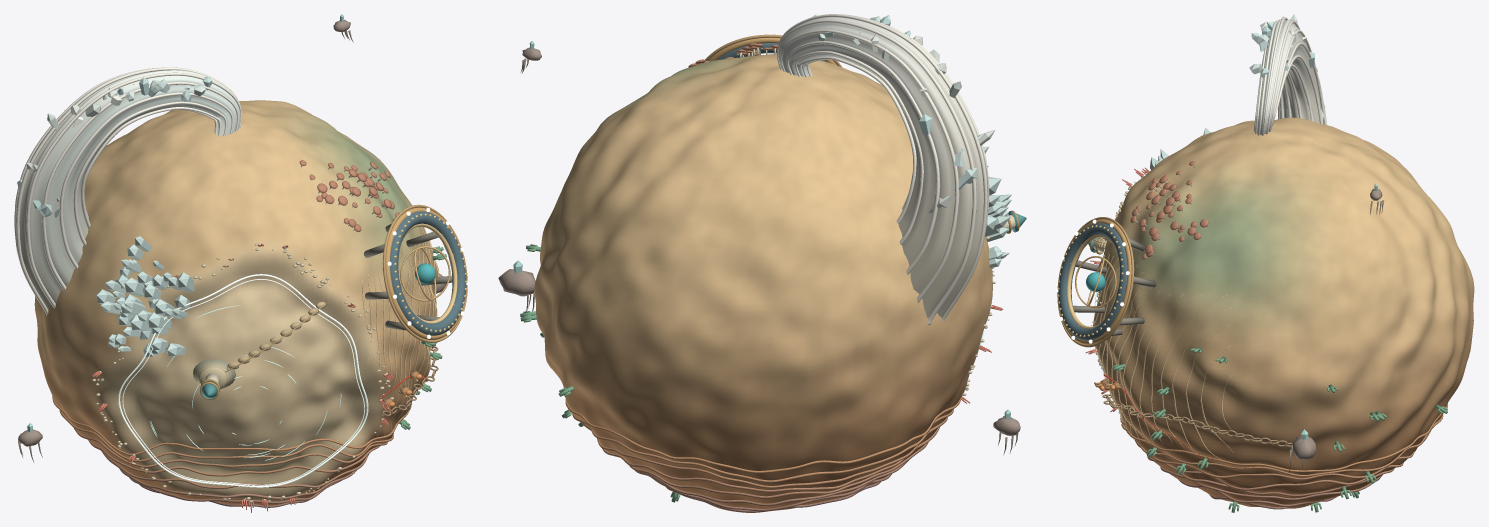
Rendered from world.glb.
The picture shows the model from 3 angles, left to right: view 1: azimuth 30°, elevation 25°; view 2: azimuth 150°, elevation 25°; view 3: azimuth 270°, elevation 25°; orthographic projection. The views are drawn at different scales.
Parts seen in each view (by area): view 1: World_sand, World_ivory, World_stone, World_crystal, World_metal, World_dark_metal, World_foam, World_coral; view 2: World_sand, World_ivory, World_stone, World_crystal, World_metal; view 3: World_sand, World_ivory, World_stone, World_metal, World_dark_metal, World_coral, World_leaf, World_crystal.
Boxes of the visible parts, x1,y1,x2,y2 form: World_sand: [34, 100, 439, 505]; World_ivory: [14, 67, 394, 384]; World_stone: [18, 19, 446, 507]; World_crystal: [17, 14, 343, 431]; World_metal: [199, 204, 467, 416]; World_dark_metal: [364, 211, 466, 335]; World_foam: [118, 274, 368, 487]; World_coral: [92, 160, 427, 512]; World_sand: [534, 54, 992, 512]; World_ivory: [700, 14, 1015, 324]; World_stone: [498, 47, 1020, 512]; World_crystal: [513, 14, 1011, 419]; World_metal: [705, 34, 1026, 233]; World_sand: [1093, 117, 1474, 508]; World_ivory: [1093, 17, 1327, 258]; World_stone: [1091, 173, 1447, 509]; World_metal: [1057, 217, 1292, 446]; World_dark_metal: [1058, 223, 1156, 340]; World_coral: [1085, 161, 1254, 468]; World_leaf: [1112, 347, 1447, 512]; World_crystal: [1150, 14, 1377, 439].
Bounding box in the file's own units: 10.15 × 9.58 × 8.77.
